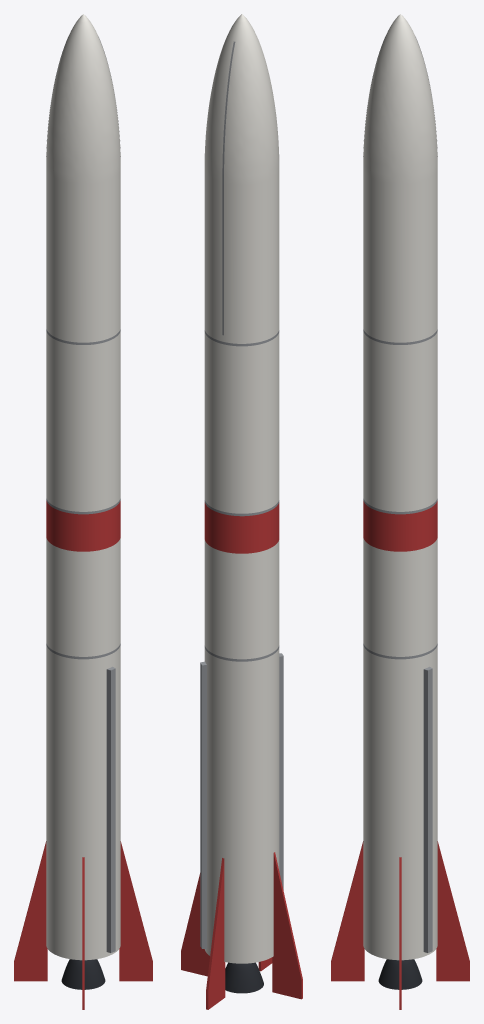
File: kuaizhou.glb
The picture shows the model from 3 angles, left to right: view 1: azimuth 90°, elevation 25°; view 2: azimuth 150°, elevation 25°; view 3: azimuth 270°, elevation 25°; orthographic projection.
Visible parts, largest first — view 1: kuaizhou; view 2: kuaizhou; view 3: kuaizhou.
Boxes of the visible parts, left/top/right/bottom form: kuaizhou: left=14, top=14, right=152, bottom=1009; kuaizhou: left=181, top=14, right=302, bottom=1009; kuaizhou: left=331, top=14, right=469, bottom=1009.
Bounding box in the file's own units: 2.6 × 20 × 2.6.
1 material, 1 textured.
